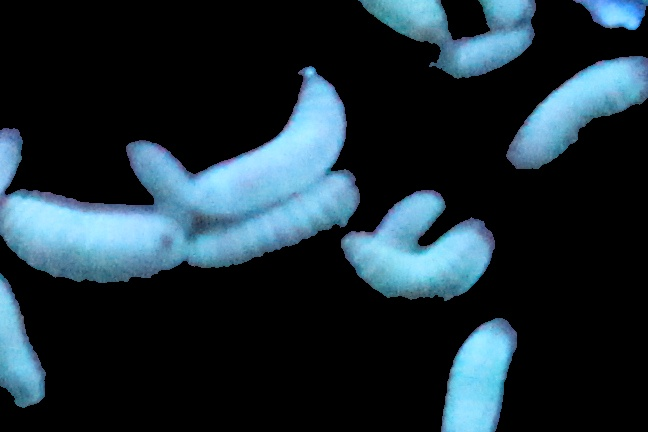larvae: (190, 77, 346, 215), (1, 195, 186, 285), (187, 172, 358, 268), (509, 57, 645, 167), (344, 226, 490, 309), (440, 321, 524, 432), (1, 275, 45, 406), (130, 144, 192, 233), (434, 28, 531, 77), (374, 192, 441, 253), (357, 1, 446, 42)
